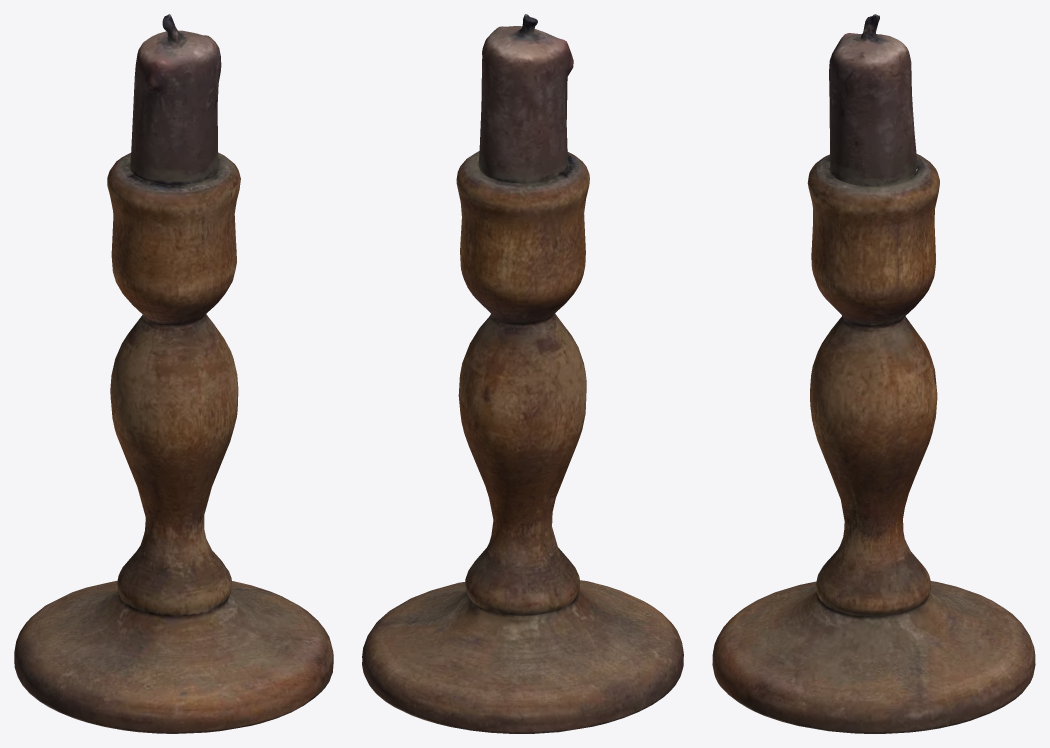
File: wooden_candlestick.glb
The picture shows the model from 3 angles, left to right: view 1: azimuth 30°, elevation 25°; view 2: azimuth 150°, elevation 25°; view 3: azimuth 270°, elevation 25°; orthographic projection.
Parts seen in each view (by area): view 1: wooden_candlestick; view 2: wooden_candlestick; view 3: wooden_candlestick.
Boxes of the visible parts, left/top/right/bottom form: wooden_candlestick: left=14, top=14, right=333, bottom=733; wooden_candlestick: left=362, top=14, right=683, bottom=733; wooden_candlestick: left=712, top=14, right=1035, bottom=733.
Size of the model in its own units: 0.0971 by 0.2196 by 0.0986.
1 material, 1 textured.
